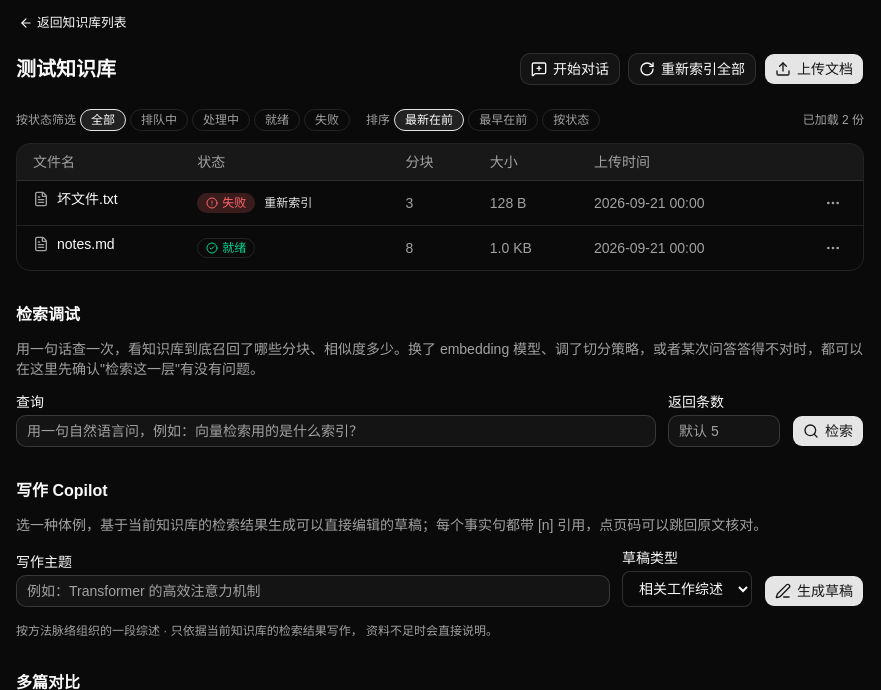
Scenario: 检索调试视图（issue #77） › 展示命中的文件名、片段与相似度，并把 topK 原样传下去
The image size is (881, 690).
Type "向量检索用什么索引？" into the field labelled "查询".
click(336, 431); type("向量检索用什么索引？")  # box [16,415,656,447]
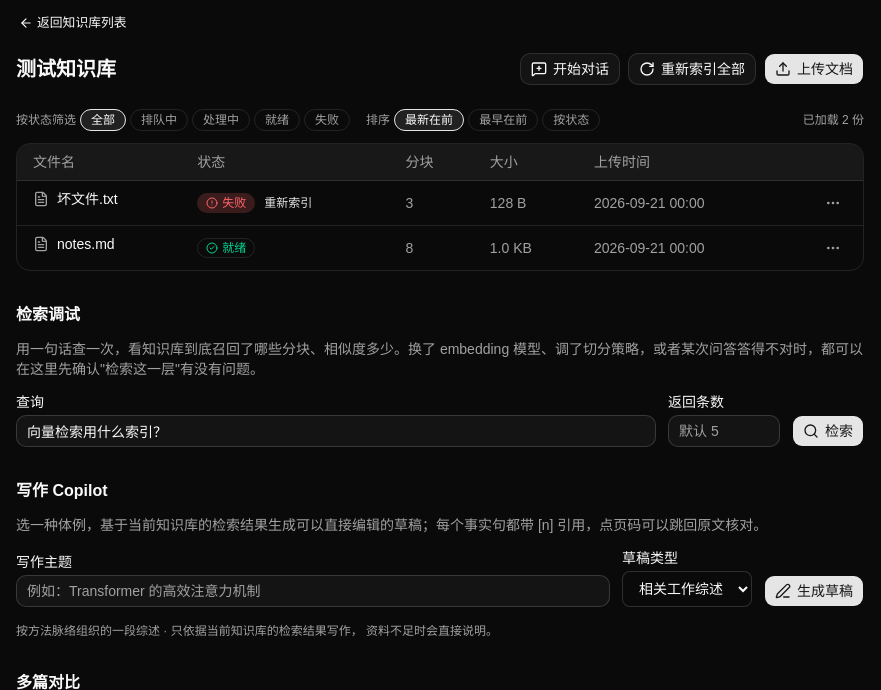
Type "10" into the field labelled "返回条数".
click(724, 431); type("10")  # box [668,415,780,447]
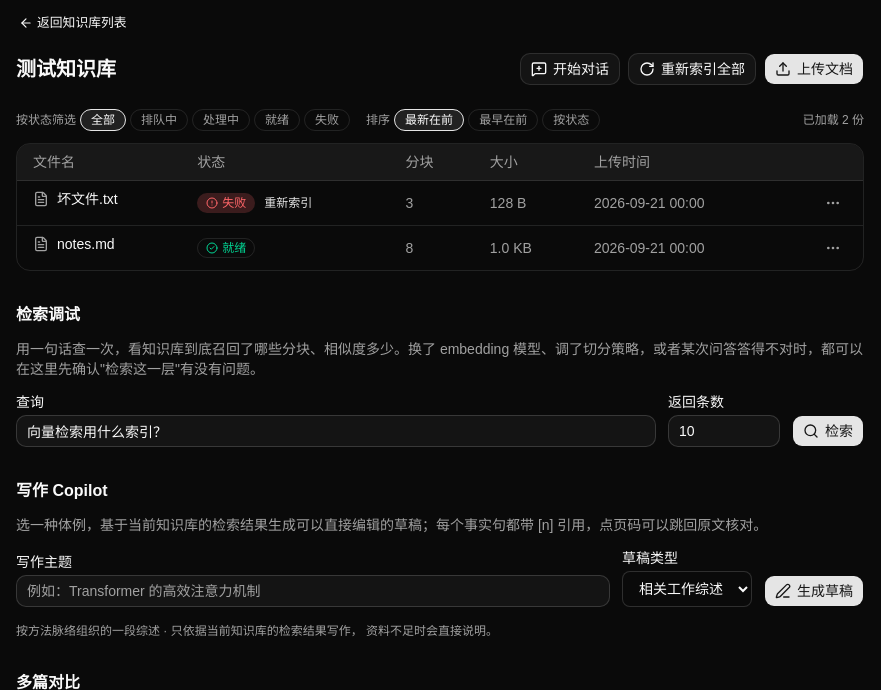
Click the button "检索".
click(828, 431)  # box [792,415,864,447]
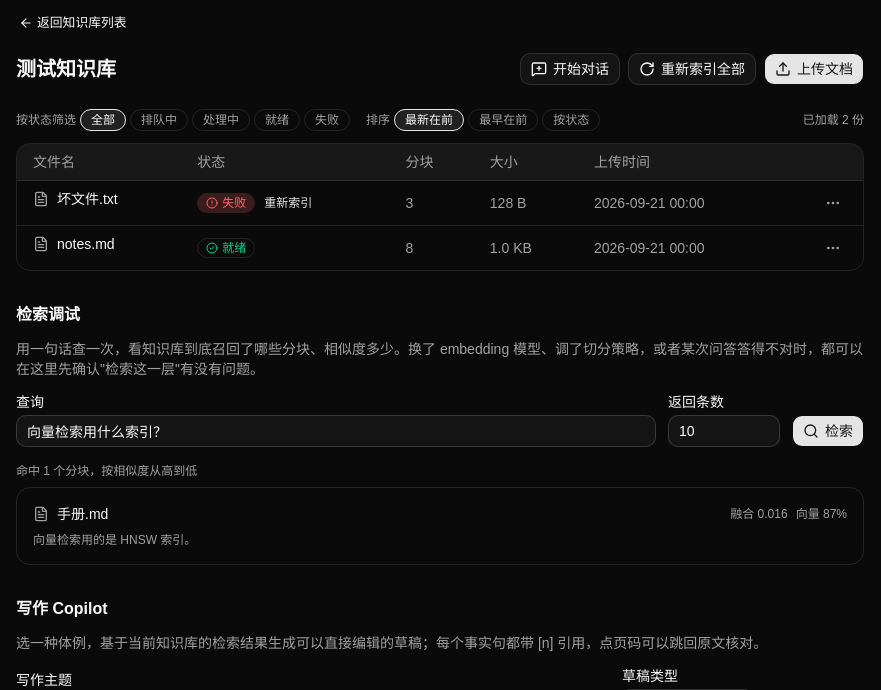
Check: the text "向量检索用的是 HNSW 索引。" is shown, box [33,533,196,547]
Check: the text "手册.md" is shown, box [57,504,108,524]
Check: the text "向量 87%" is shown, box [796,507,847,521]
